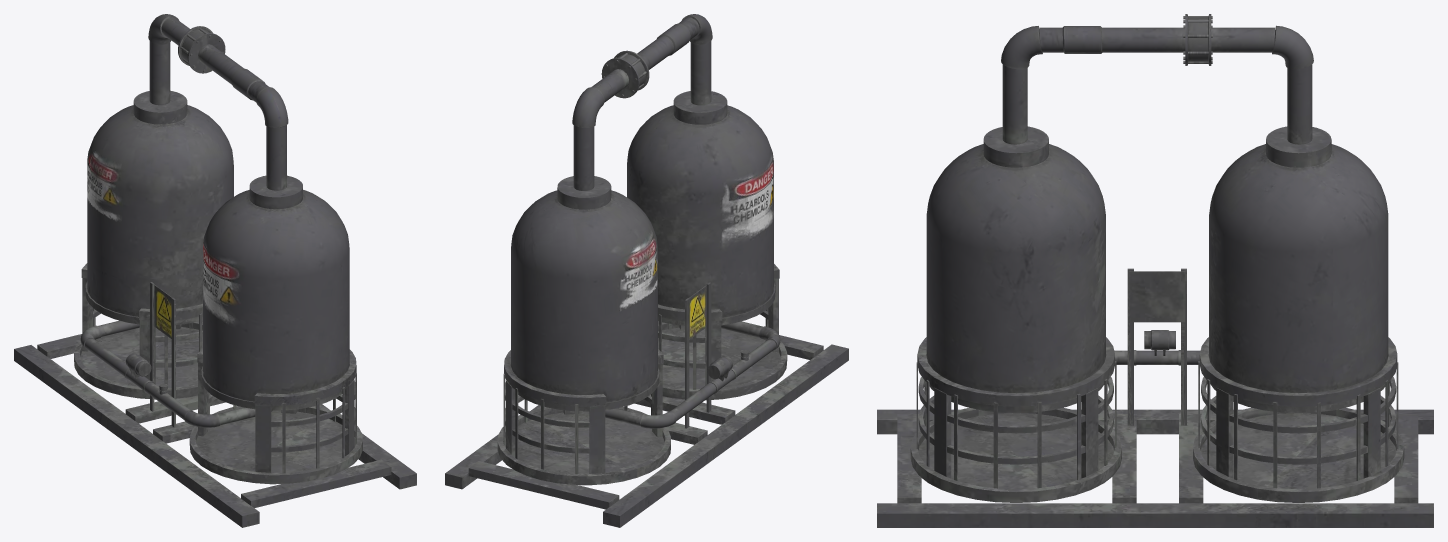
The model's file is BLD_SERRefinery.glb.
3 renders of one model, left to right at view 1: azimuth 30°, elevation 25°; view 2: azimuth 150°, elevation 25°; view 3: azimuth 270°, elevation 25°, orthographic. The views are drawn at different scales.
Visible parts, largest first — view 1: Cylinder_TT_checker_1024x1024_UV_GRID_0; view 2: Cylinder_TT_checker_1024x1024_UV_GRID_0; view 3: Cylinder_TT_checker_1024x1024_UV_GRID_0.
Boxes of the visible parts, left/top/right/bottom form: Cylinder_TT_checker_1024x1024_UV_GRID_0: left=14, top=14, right=416, bottom=527; Cylinder_TT_checker_1024x1024_UV_GRID_0: left=445, top=14, right=848, bottom=527; Cylinder_TT_checker_1024x1024_UV_GRID_0: left=877, top=14, right=1433, bottom=527.
Size of the model in its own units: 2.74 by 5.69 by 6.22.
1 material, 1 textured.
